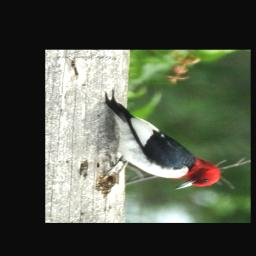Woodpecker: (106, 91, 221, 191)
